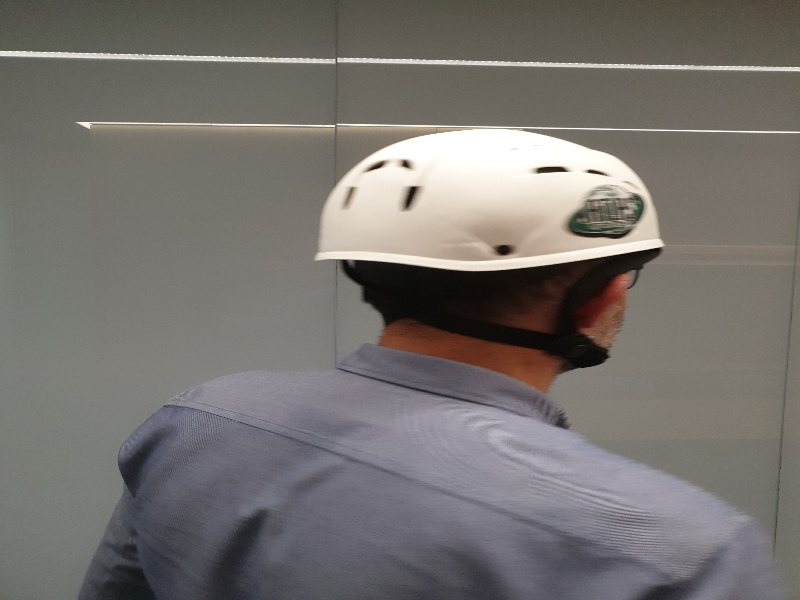Baret: (318, 127, 678, 264)
